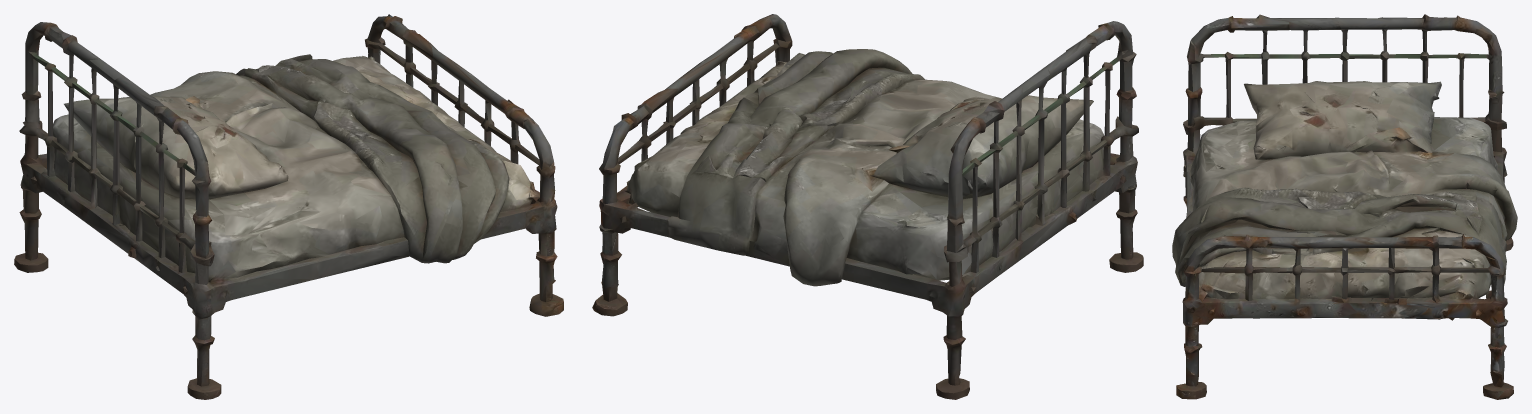
File: bed_idle.glb
3 views of the same model, side by side, from view 1: azimuth 30°, elevation 25°; view 2: azimuth 150°, elevation 25°; view 3: azimuth 270°, elevation 25° (orthographic). The views are drawn at different scales.
Visible parts, largest first — view 1: tripo_node_205f38d6-e1c1-48be-89bf-2b6029741aee; view 2: tripo_node_205f38d6-e1c1-48be-89bf-2b6029741aee; view 3: tripo_node_205f38d6-e1c1-48be-89bf-2b6029741aee.
Boxes of the visible parts, x1,y1,x2,y2 form: tripo_node_205f38d6-e1c1-48be-89bf-2b6029741aee: (14,14,563,399); tripo_node_205f38d6-e1c1-48be-89bf-2b6029741aee: (592,14,1143,399); tripo_node_205f38d6-e1c1-48be-89bf-2b6029741aee: (1172,14,1517,399).
Bounding box in the file's own units: 1.19 × 0.8011 × 1.09.
Materials: 1 (1 with a texture image).
